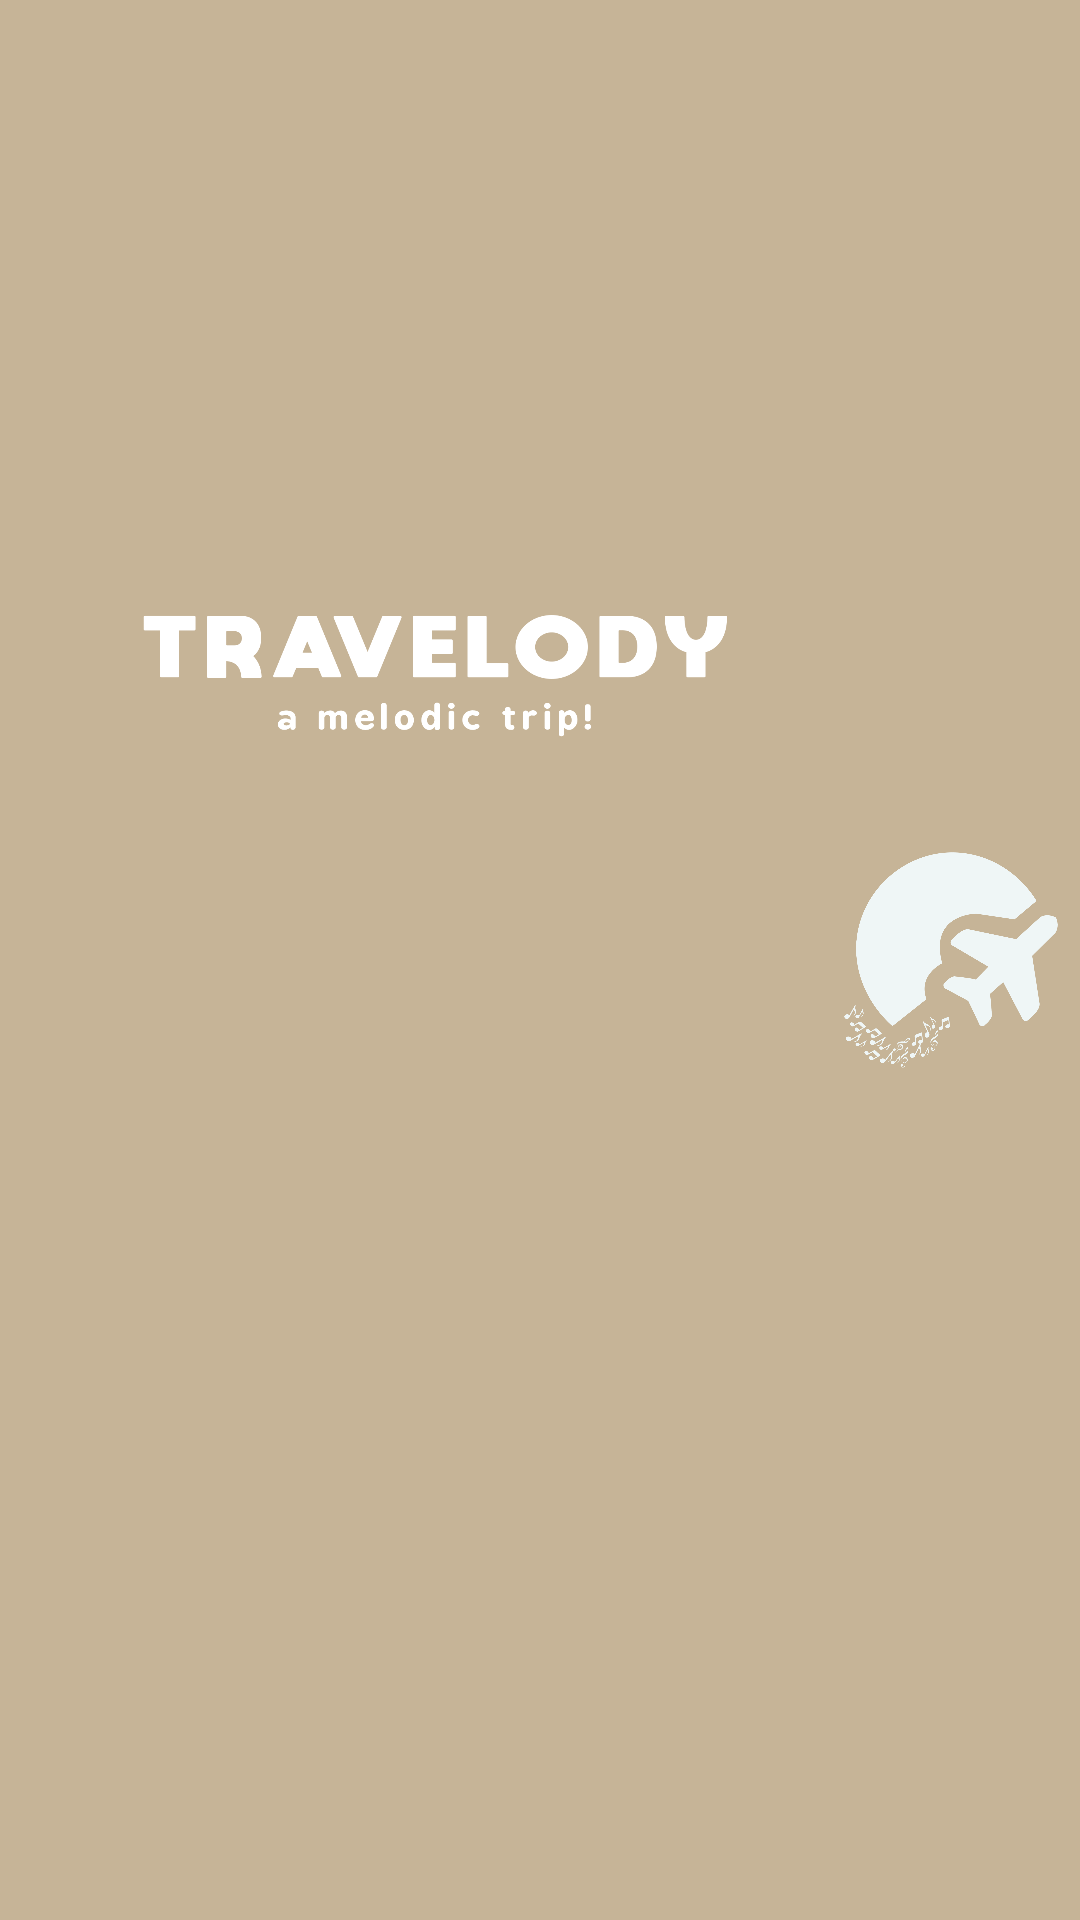

Locate icon controls on the screen. Image size 1080 x 1920, boxes as (x1, y1, x2, y2).
travelody: (844, 852, 1058, 1068)
